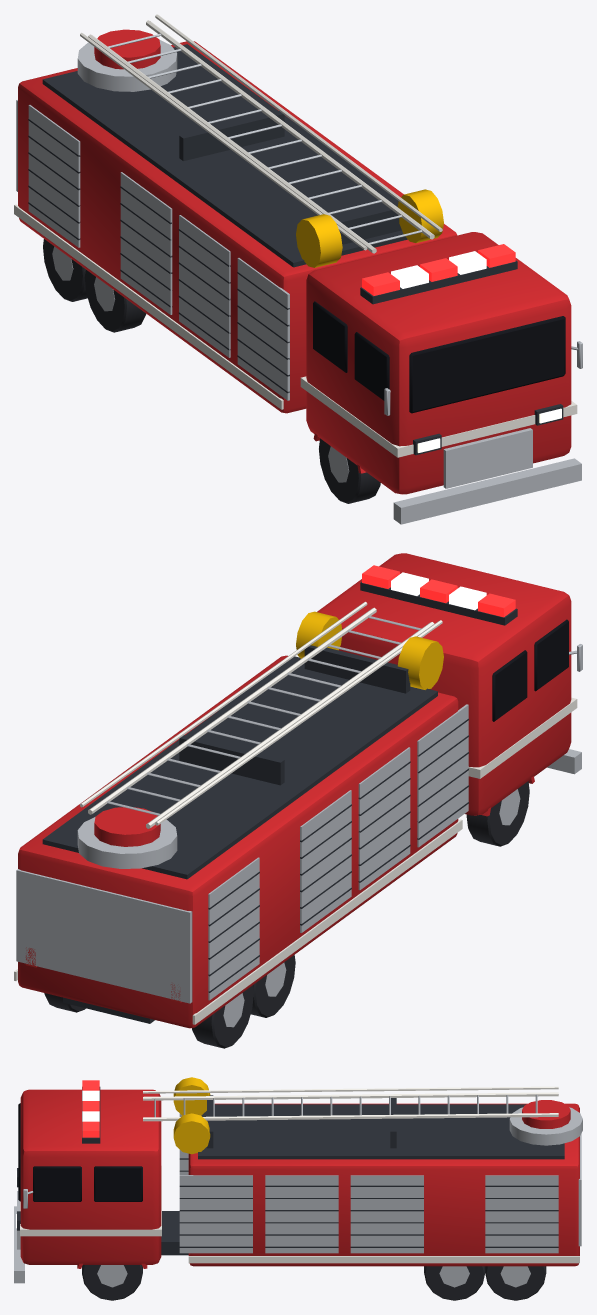
File: fire_truck.glb
3 views of the same model, one above another, from view 1: azimuth 30°, elevation 25°; view 2: azimuth 150°, elevation 25°; view 3: azimuth 270°, elevation 25° (orthographic). The views are drawn at different scales.
Visible parts, largest first — view 1: body; view 2: body; view 3: body.
Boxes of the visible parts, x1,y1,x2,y2 form: body: [14, 14, 582, 524]; body: [14, 553, 582, 1048]; body: [14, 1077, 582, 1300].
Size of the model in its own units: 271 by 310 by 931.
